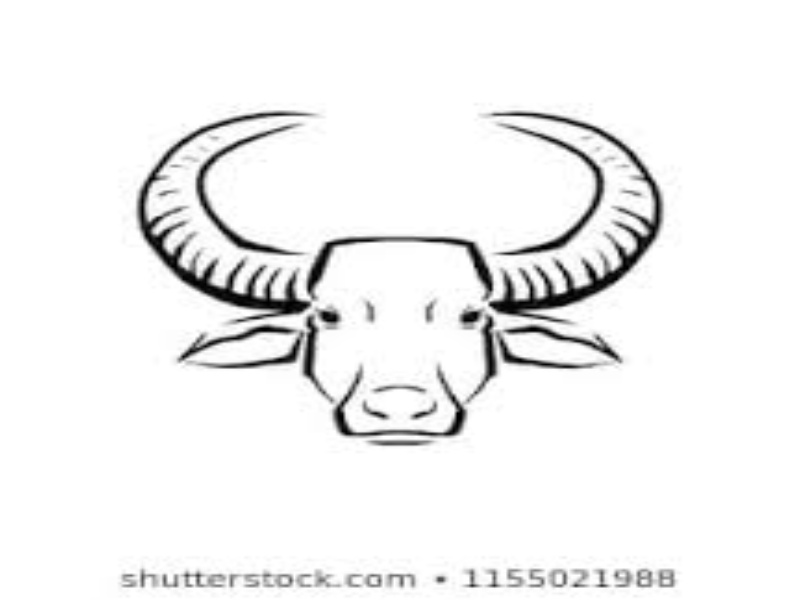buffalo: (119, 94, 679, 454)
